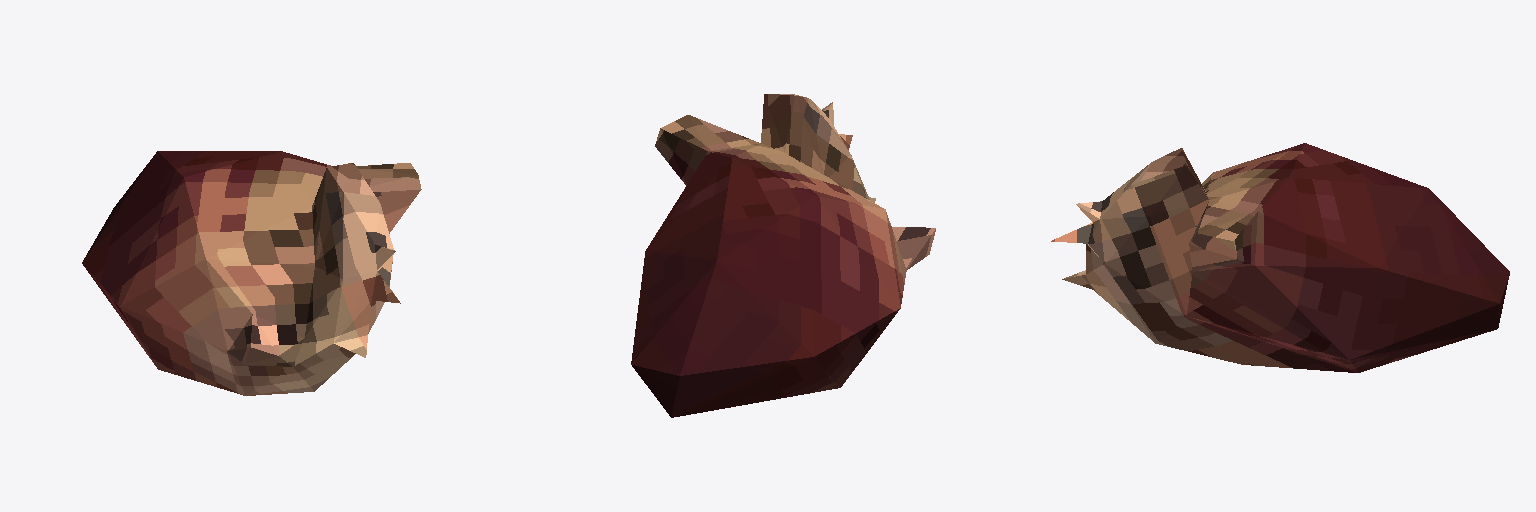
3 renders of one model, left to right at view 1: azimuth 30°, elevation 25°; view 2: azimuth 150°, elevation 25°; view 3: azimuth 270°, elevation 25°, orthographic.
Visible parts, largest first — view 1: MinosPrime_Heart_001_0; view 2: MinosPrime_Heart_001_0; view 3: MinosPrime_Heart_001_0.
Boxes of the visible parts, box(x1,y1,x2,y2) form: MinosPrime_Heart_001_0: box(82, 151, 421, 395); MinosPrime_Heart_001_0: box(631, 94, 935, 417); MinosPrime_Heart_001_0: box(1051, 143, 1509, 372).
Size of the model in its own units: 0.0518 by 0.044 by 0.077.
1 materials, 1 textured.